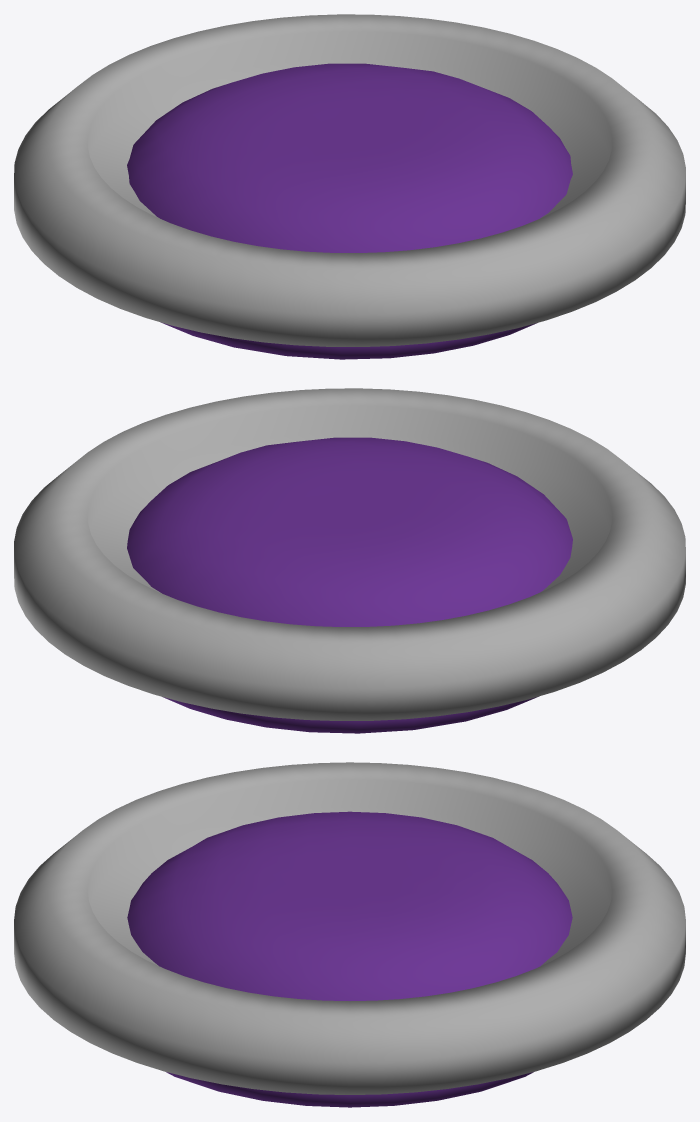
File: shadow switch pressed.glb
The picture shows the model from 3 angles, top to bottom: view 1: azimuth 30°, elevation 25°; view 2: azimuth 150°, elevation 25°; view 3: azimuth 270°, elevation 25°; orthographic projection.
Visible parts, largest first — view 1: Shadow Switch Pressed, Red Button.005; view 2: Shadow Switch Pressed, Red Button.005; view 3: Shadow Switch Pressed, Red Button.005.
Part boxes in pixels (bbox=[...]): Shadow Switch Pressed: bbox=[14, 14, 685, 346]; Red Button.005: bbox=[127, 63, 572, 359]; Shadow Switch Pressed: bbox=[14, 388, 685, 720]; Red Button.005: bbox=[127, 437, 572, 733]; Shadow Switch Pressed: bbox=[14, 762, 685, 1094]; Red Button.005: bbox=[127, 811, 572, 1107].
Size of the model in its own units: 1.17 by 0.2469 by 1.17.
